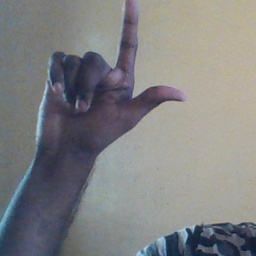L: (40, 1, 186, 150)
